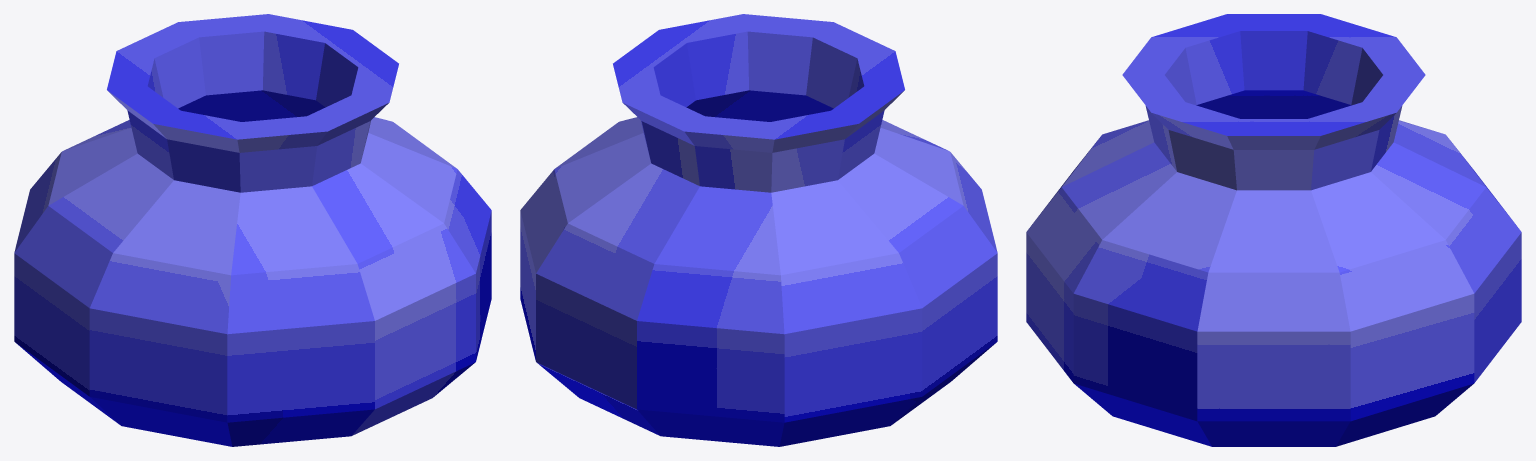
Rendered from pot_944x04.gltf.
3 renders of one model, left to right at view 1: azimuth 30°, elevation 25°; view 2: azimuth 150°, elevation 25°; view 3: azimuth 270°, elevation 25°, orthographic.
Parts seen in each view (by area): view 1: pot_944x04; view 2: pot_944x04; view 3: pot_944x04.
Boxes of the visible parts, <box> form: pot_944x04: <box>14,14,491,446</box>; pot_944x04: <box>520,14,997,446</box>; pot_944x04: <box>1026,14,1521,446</box>.
Size of the model in its own units: 0.9511 by 0.65 by 1.
1 material, 1 textured.
